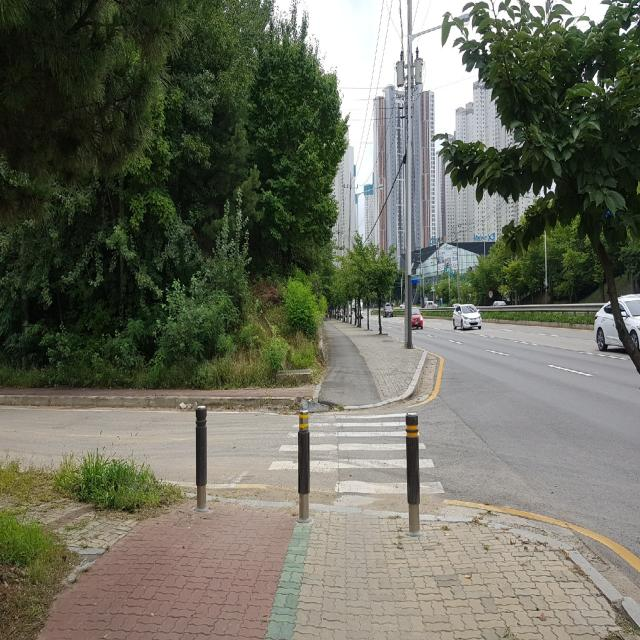횡단보도: (267, 410, 446, 496)
